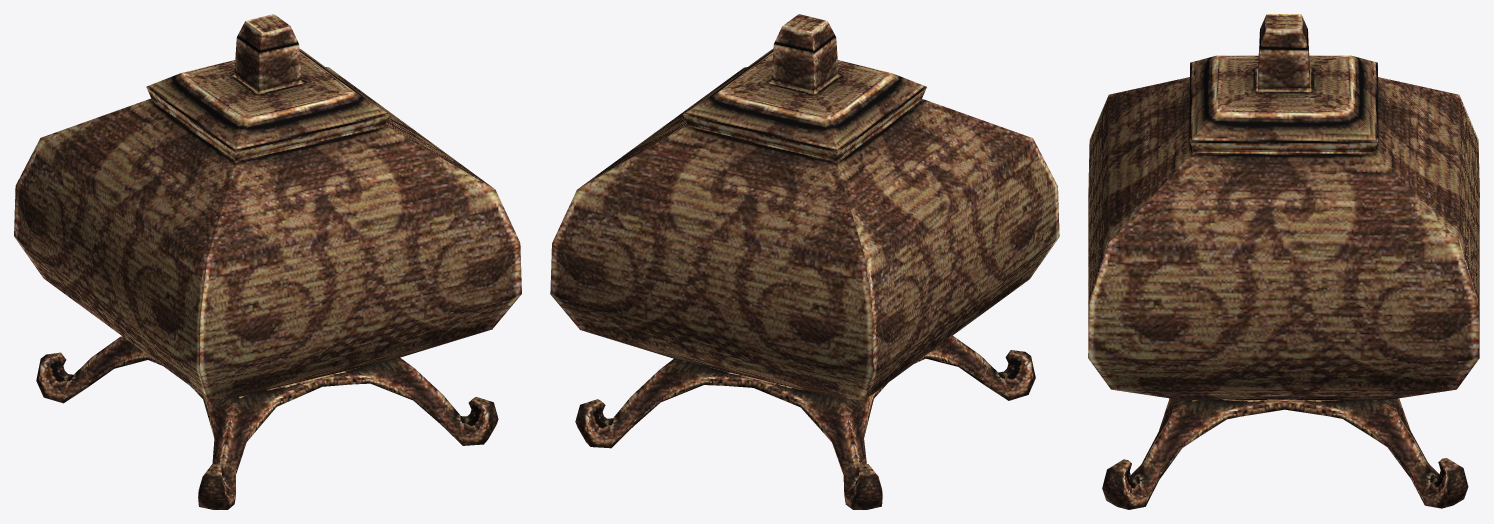
File: Censer03.FBX
3 renders of one model, left to right at view 1: azimuth 30°, elevation 25°; view 2: azimuth 150°, elevation 25°; view 3: azimuth 270°, elevation 25°, orthographic. The views are drawn at different scales.
Visible parts, largest first — view 1: Censer03; view 2: Censer03; view 3: Censer03.
Part boxes in pixels (box(x1,y1,x2,y2)): Censer03: box(14, 14, 521, 509); Censer03: box(550, 14, 1059, 509); Censer03: box(1088, 14, 1479, 509).
Bounding box in the file's own units: 28.16 × 33.14 × 28.16.
